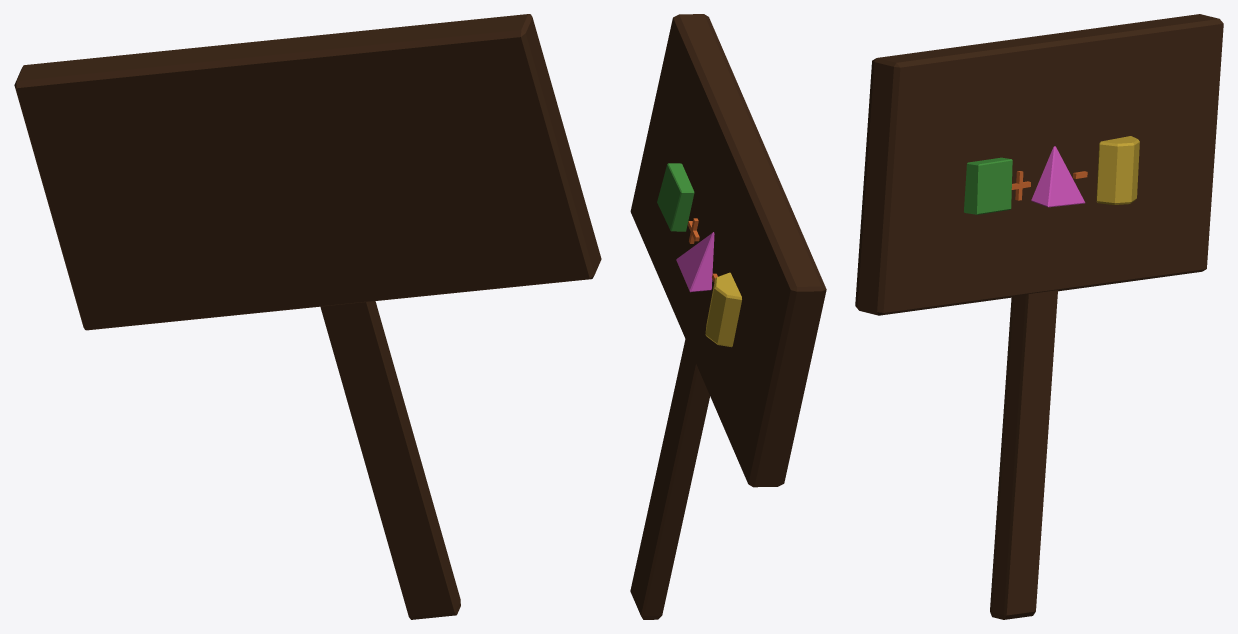
The model's file is panneau.fbx.
3 renders of one model, left to right at view 1: azimuth 30°, elevation 25°; view 2: azimuth 150°, elevation 25°; view 3: azimuth 270°, elevation 25°, orthographic. The views are drawn at different scales.
Visible parts, largest first — view 1: Box151; view 2: Box151; view 3: Box151.
Part boxes in pixels (box(x1,y1,x2,y2)): Box151: box(14, 14, 601, 619); Box151: box(630, 14, 826, 619); Box151: box(855, 14, 1223, 619).
Bounding box in the file's own units: 73.96 × 112 × 65.8.
